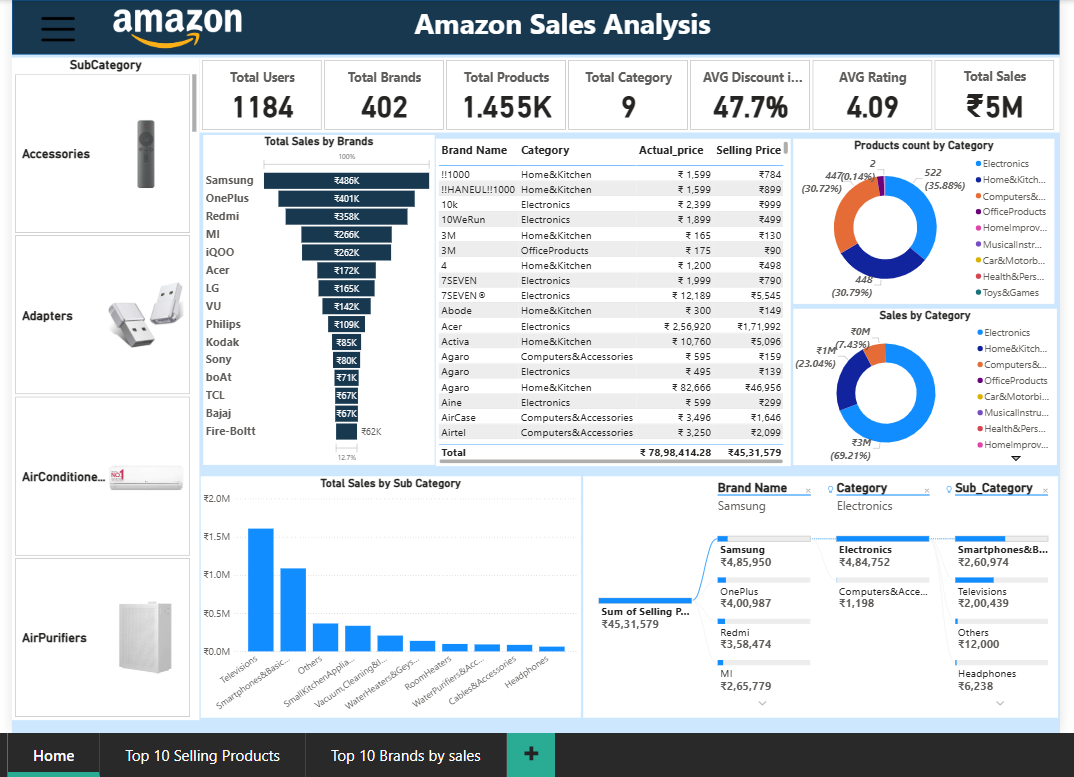

What the dashboard file says about the page in this screenshot:
{"tool":"powerbi","page":{"name":"Home ","canvas":[2000,1400],"ordinal":0},"visuals":[{"type":"shape","box":[0,0,1999.1,103.8],"z":0},{"type":"image","box":[174.2,0,283.9,109.7],"z":1000},{"type":"textbox","box":[756.3,2.4,603.6,102.6],"z":2000},{"type":"cardVisual","fields":{"Data":["Count(amazon.user_id)","Count(amazon.Brand Name)","CountNonNull(amazon.Product Name)","Count(amazon.Category)","Avg(amazon.discount_percentage)","Avg(amazon.rating)","Sum(amazon.discounted_price)"]},"box":[357.9,109.7,1641.5,143.2],"z":3000},{"type":"advancedSlicerVisual","title":"SubCategory","fields":{"Values":["amazon.Sub_Category"]},"box":[0,109.7,357.9,1264.5],"z":4000},{"type":"funnel","title":"Total Sales by Brands ","fields":{"Category":["amazon.Brand Name"],"Y":["Sum(amazon.discounted_price)"]},"box":[365,257.7,441.4,629.9],"z":5000},{"type":"columnChart","title":"Total Sales by Sub Category ","fields":{"Category":["amazon.Sub_Category"],"Y":["Sum(amazon.discounted_price)"]},"box":[360.3,909,725.3,460.5],"z":6000},{"type":"donutChart","title":" Products count by Category","fields":{"Category":["amazon.Category"],"Y":["CountNonNull(amazon.Product Name)"]},"box":[1491.1,264.8,498.6,314.9],"z":7000},{"type":"donutChart","title":"Sales by Category ","fields":{"Category":["amazon.Category"],"Y":["Sum(amazon.discounted_price)"]},"box":[1491.1,589.3,503.4,298.2],"z":8000},{"type":"decompositionTreeVisual","fields":{"ExplainBy":["amazon.Brand Name","amazon.Category","amazon.Sub_Category"],"Analyze":["Sum(amazon.discounted_price)"]},"box":[1090.3,909,906.6,460.5],"z":9000},{"type":"tableEx","fields":{"Values":["amazon.Brand Name","amazon.Category","Sum(amazon.actual_price)","Sum(amazon.Selling Price)"]},"box":[808.8,264.8,677.6,625.1],"z":13000},{"type":"image","box":[0,19.1,176.6,74],"z":14000}]}

Visuals, with their boxes on the page's 2000x1400 design canvas (x1, y1, x2, y2). These are canvas units, not pixel positions in the 1074x777 screenshot, which may show the page scaled, cropped or inside an application window:
shape: detection(0, 0, 1999, 104)
image: detection(174, 0, 458, 110)
textbox: detection(756, 2, 1360, 105)
cardVisual - Count(amazon.user_id) x Count(amazon.Brand Name): detection(358, 110, 1999, 253)
"SubCategory" advancedSlicerVisual: detection(0, 110, 358, 1374)
"Total Sales by Brands " funnel: detection(365, 258, 806, 888)
"Total Sales by Sub Category " columnChart: detection(360, 909, 1086, 1370)
" Products count by Category" donutChart: detection(1491, 265, 1990, 580)
"Sales by Category " donutChart: detection(1491, 589, 1994, 888)
decompositionTreeVisual - amazon.Brand Name x amazon.Category: detection(1090, 909, 1997, 1370)
tableEx - amazon.Brand Name x amazon.Category: detection(809, 265, 1486, 890)
image: detection(0, 19, 177, 93)
